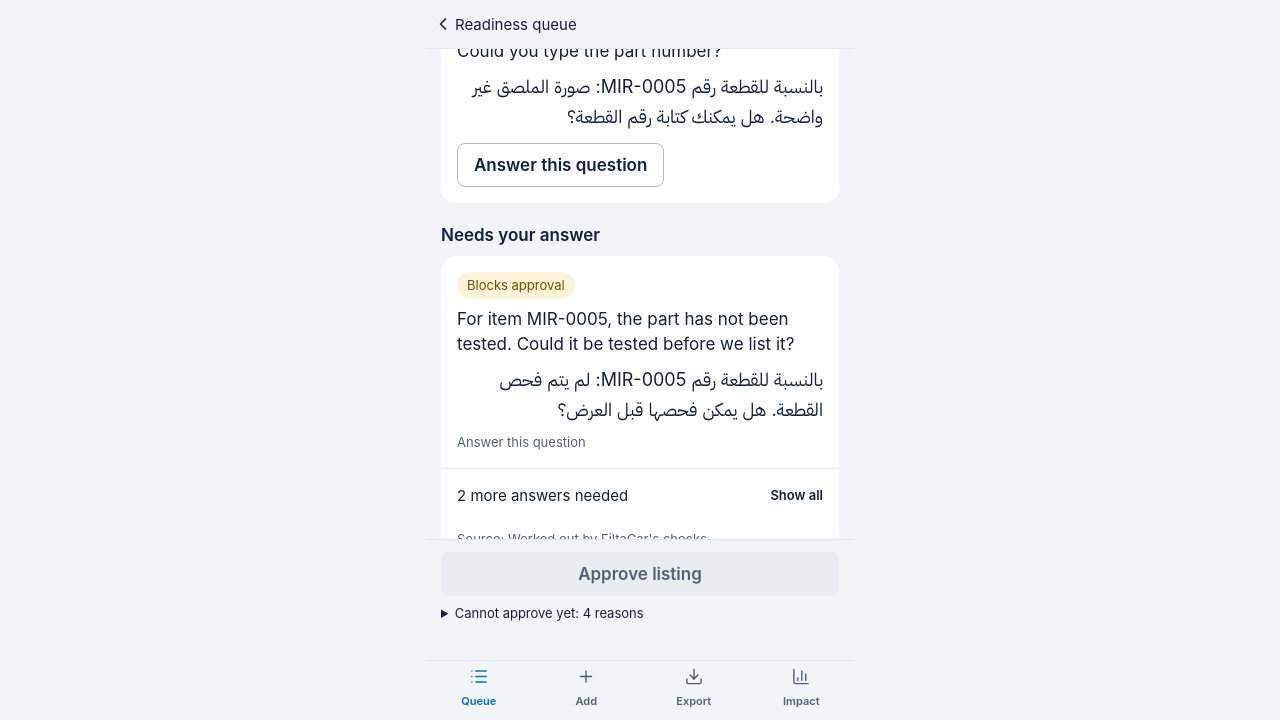
Test: opens the editor for a remaining blocking question
This screenshot has width=1280, height=720.
(page scrolled)
Click the button "the part has not been tested".
click(516, 286)  # box [441,256,839,468]
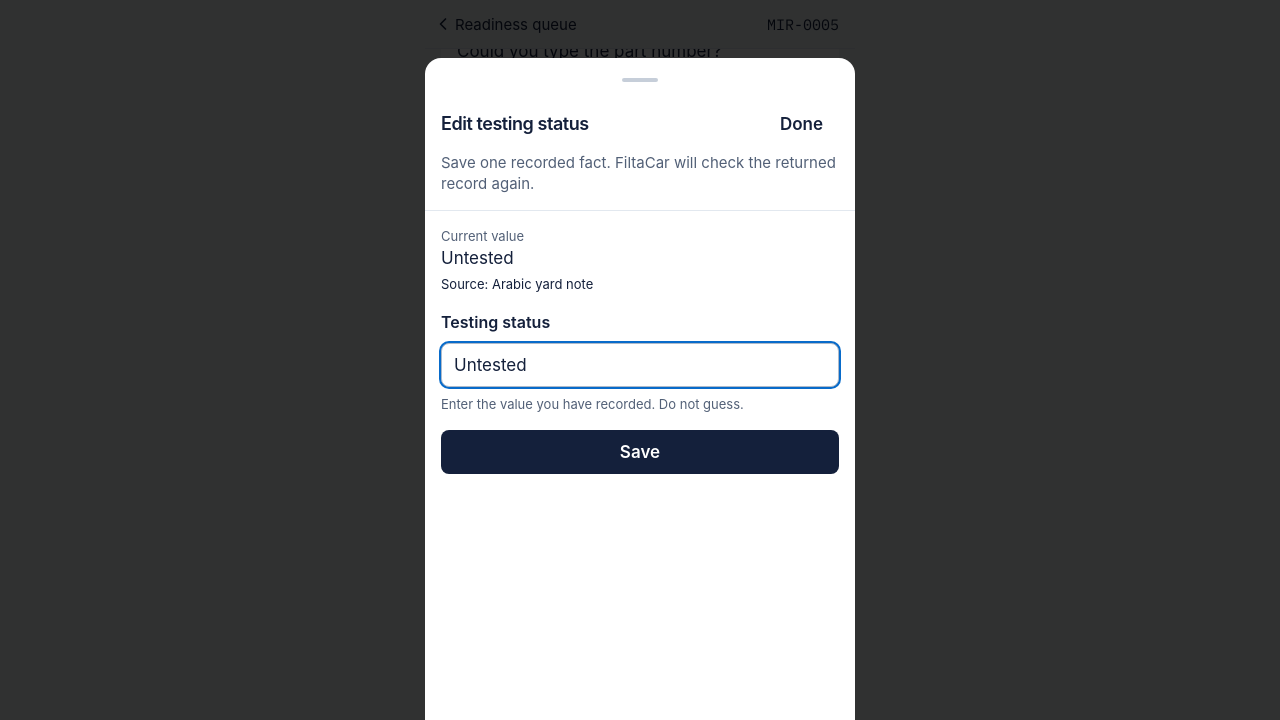
Now the field labelled "Testing status" holds "Untested", box [441,343,839,387]
